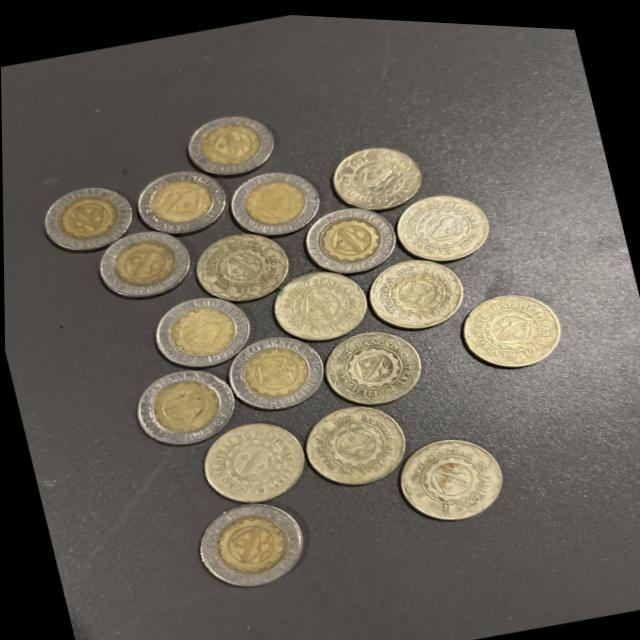10_Old_Back: (187, 488, 311, 593), (218, 323, 330, 418), (300, 194, 399, 280)
5_Old_Back: (316, 317, 428, 411), (388, 178, 495, 267), (266, 259, 369, 347)
